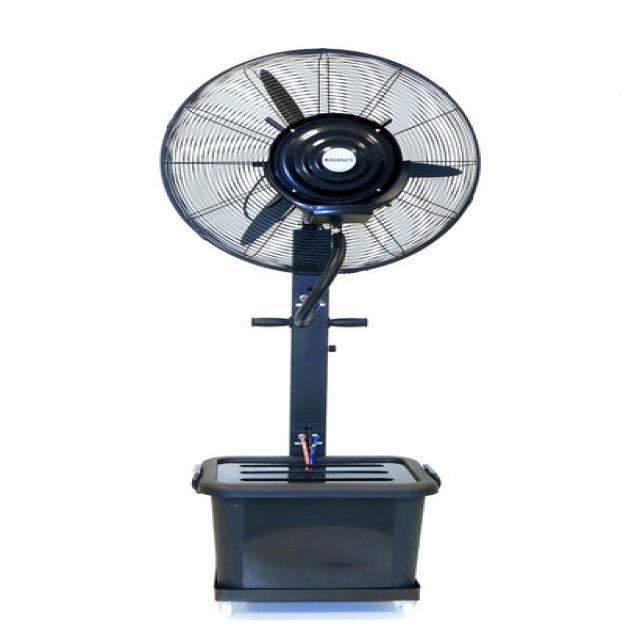fan: (157, 37, 483, 608)
